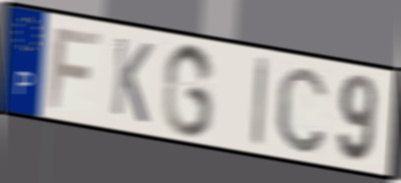9: (333, 72, 383, 165)
C: (273, 63, 330, 157)
F: (45, 25, 104, 112)
G: (159, 40, 217, 140)
I: (250, 55, 270, 150)
K: (108, 33, 155, 127)
